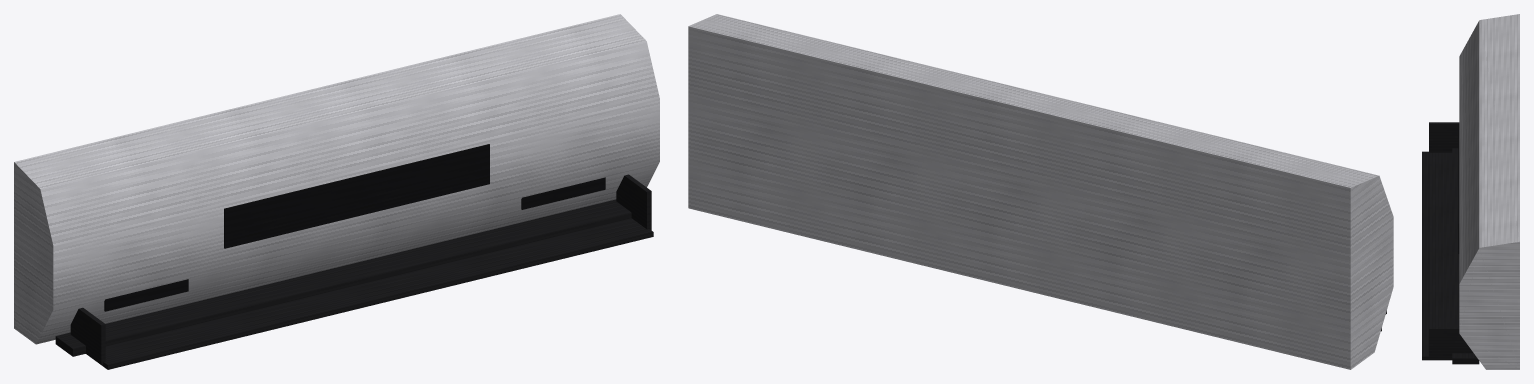
Rendered from para_choque_n2.glb.
3 renders of one model, left to right at view 1: azimuth 30°, elevation 25°; view 2: azimuth 150°, elevation 25°; view 3: azimuth 270°, elevation 25°, orthographic. The views are drawn at different scales.
Parts seen in each view (by area): view 1: para_choque_n2; view 2: para_choque_n2; view 3: para_choque_n2.
Part boxes in pixels (x1=…): para_choque_n2: x1=14, y1=14, x2=659, y2=369; para_choque_n2: x1=688, y1=14, x2=1393, y2=369; para_choque_n2: x1=1422, y1=14, x2=1519, y2=369.
Size of the model in its own units: 1.6 by 0.426 by 0.29.
1 material, 1 textured.
